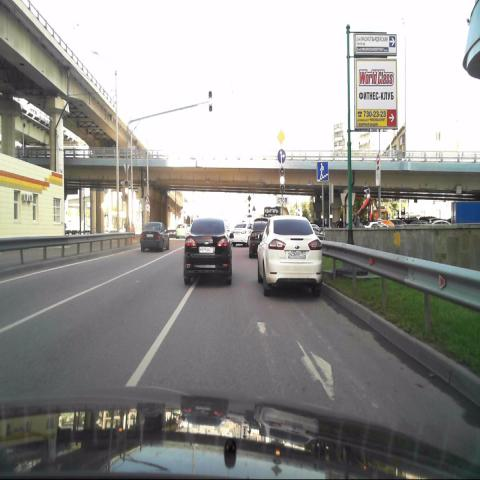6_6: (316, 161, 328, 182)
